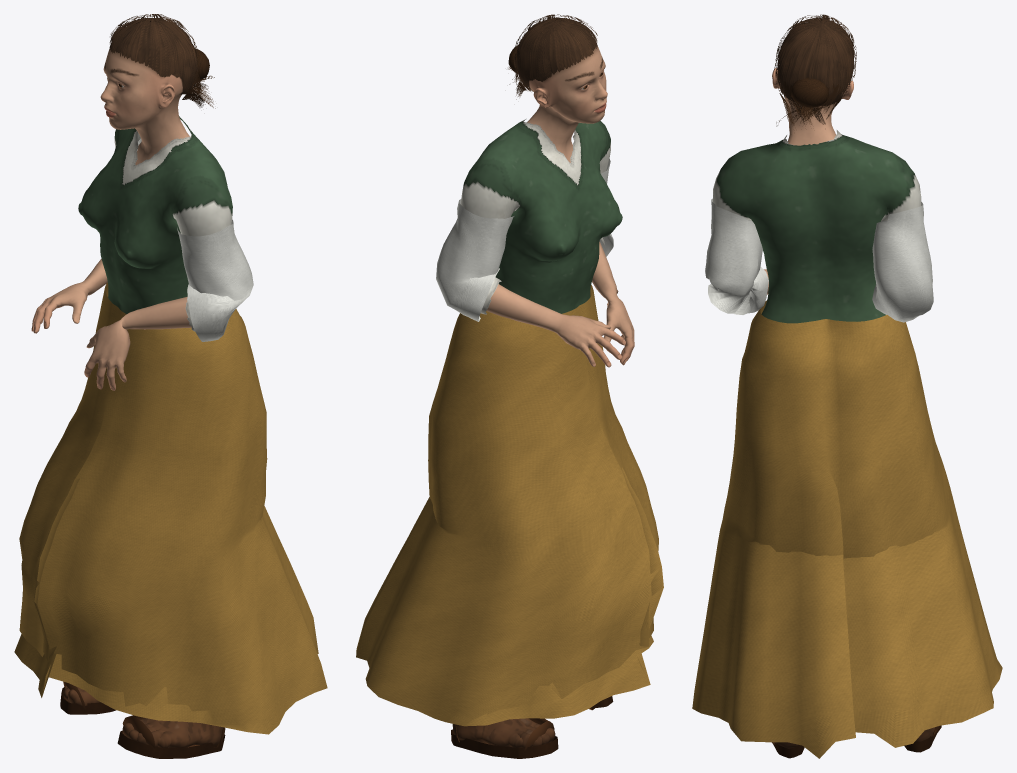
Rendered from SM_Art_Person_townswoman.gltf.
3 renders of one model, left to right at view 1: azimuth 30°, elevation 25°; view 2: azimuth 150°, elevation 25°; view 3: azimuth 270°, elevation 25°, orthographic. The views are drawn at different scales.
Visible parts, largest first — view 1: SM_Art_Person_townswoman; view 2: SM_Art_Person_townswoman; view 3: SM_Art_Person_townswoman.
Boxes of the visible parts, x1,y1,x2,y2 form: SM_Art_Person_townswoman: (14,14,327,758); SM_Art_Person_townswoman: (356,14,663,758); SM_Art_Person_townswoman: (692,14,1002,758).
Size of the model in its own units: 0.6848 by 1.69 by 0.6689.
Materials: 14 (14 with a texture image).
